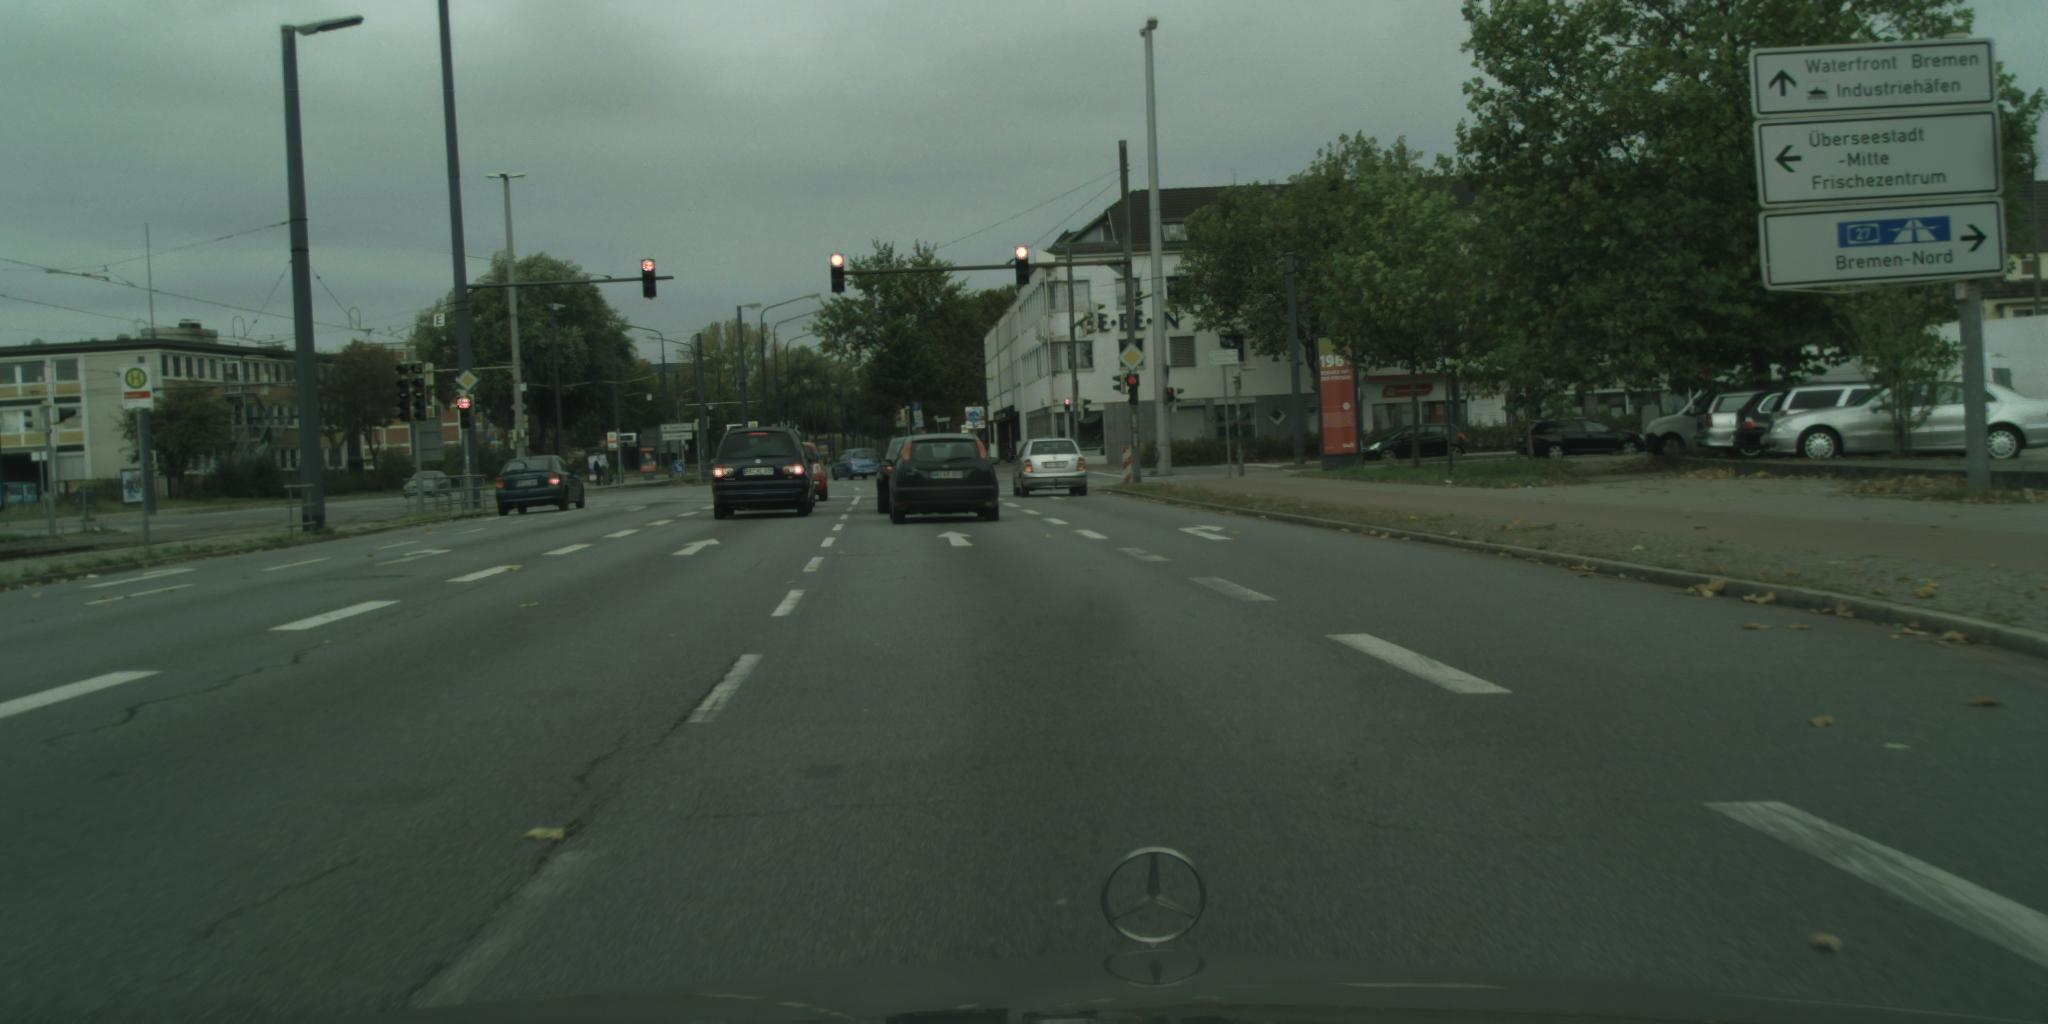car: (1762, 375, 2048, 461), (883, 434, 1000, 526), (712, 427, 822, 522), (1646, 387, 1761, 458), (1770, 380, 1907, 434), (1865, 351, 2017, 398), (1516, 415, 1654, 461), (496, 456, 586, 519), (1695, 391, 1772, 461), (1732, 391, 1806, 458), (1358, 422, 1473, 464), (1010, 439, 1089, 498), (871, 438, 910, 515), (788, 441, 829, 503), (832, 448, 888, 483), (404, 472, 453, 499)
